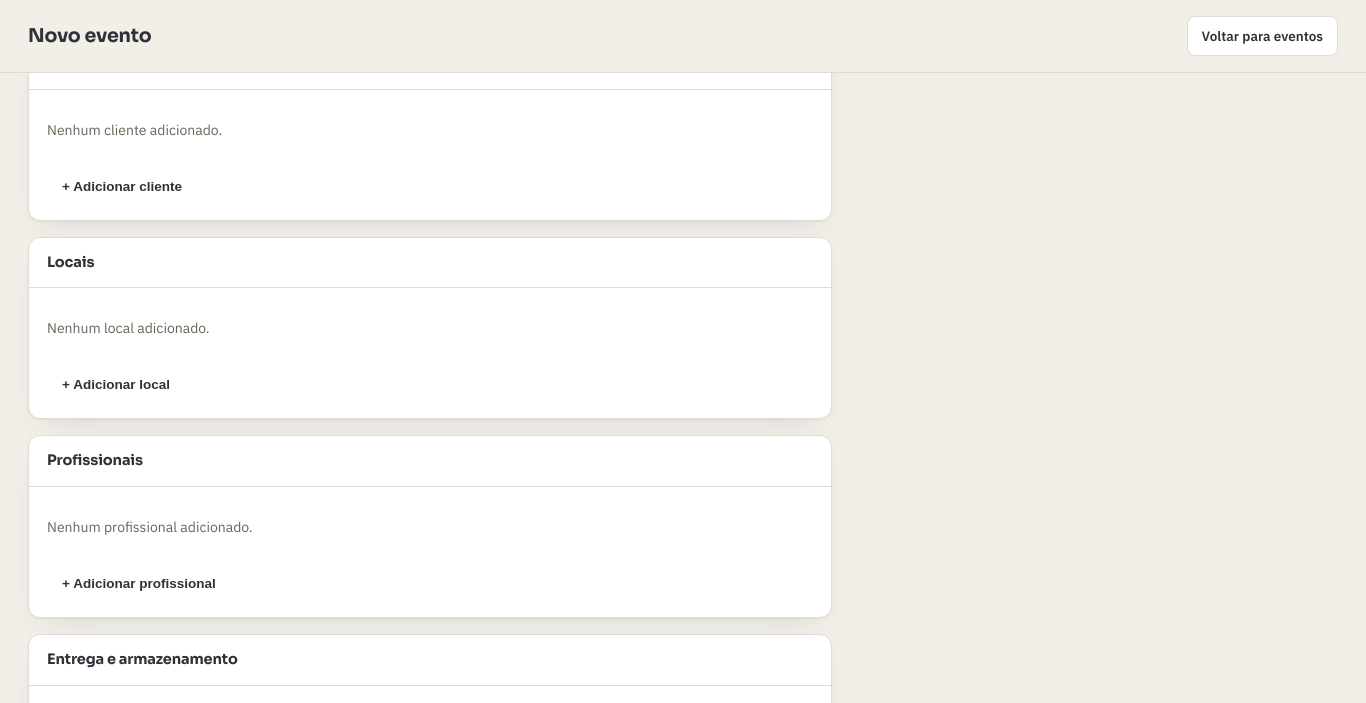
Test: EventFormPage - vários locais por evento (GDE-51) › não oferece em outra linha um local que já foi escolhido
(page scrolled)
Click the button "+ Adicionar local" at (116, 385), box [47,367,185,402]
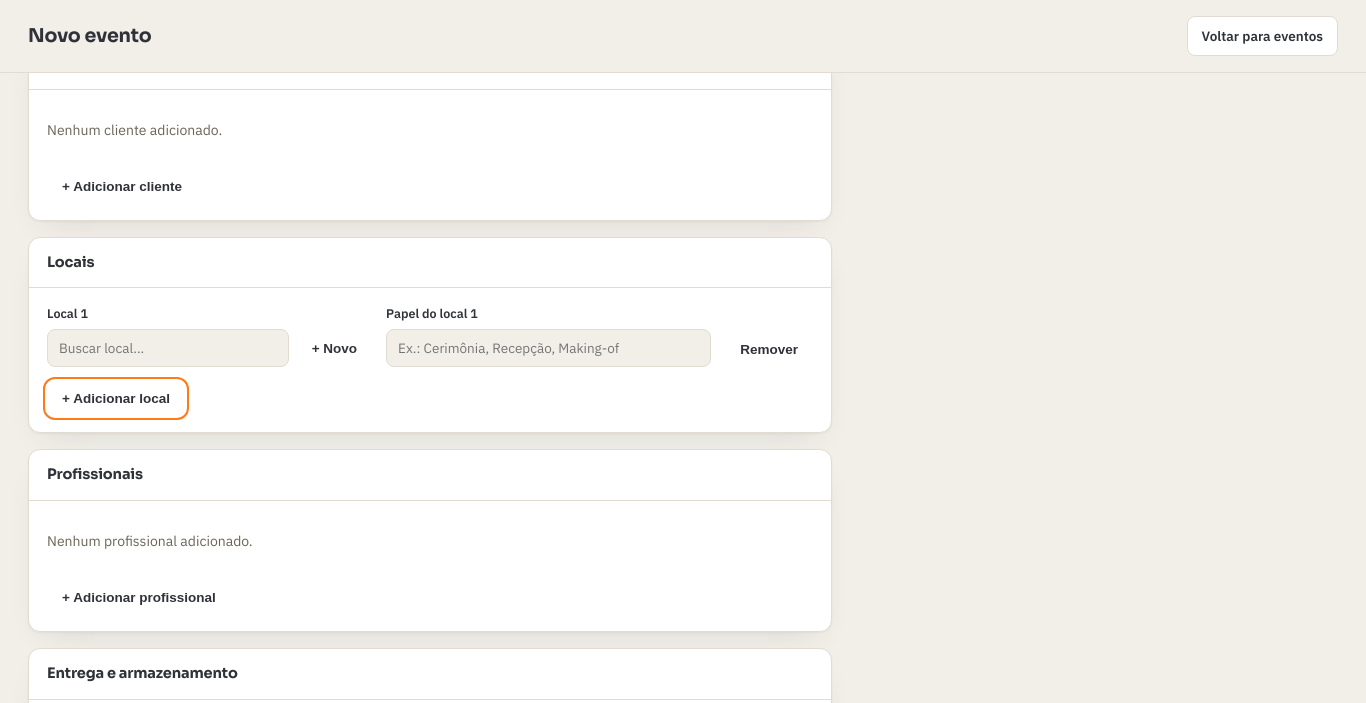
Click the button "+ Adicionar local" at (116, 398), box [47,381,185,416]
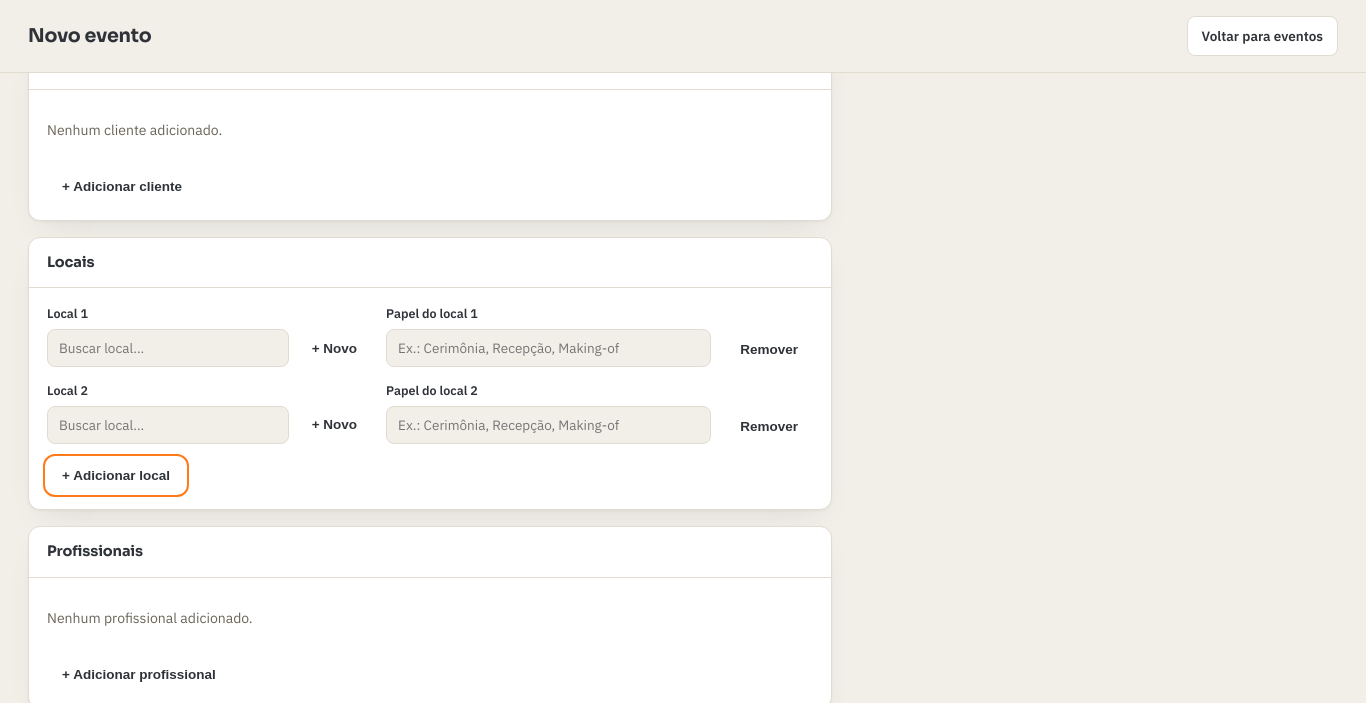
Click the dropdown labelled "Local 1" at (168, 348), box [47,329,289,367]
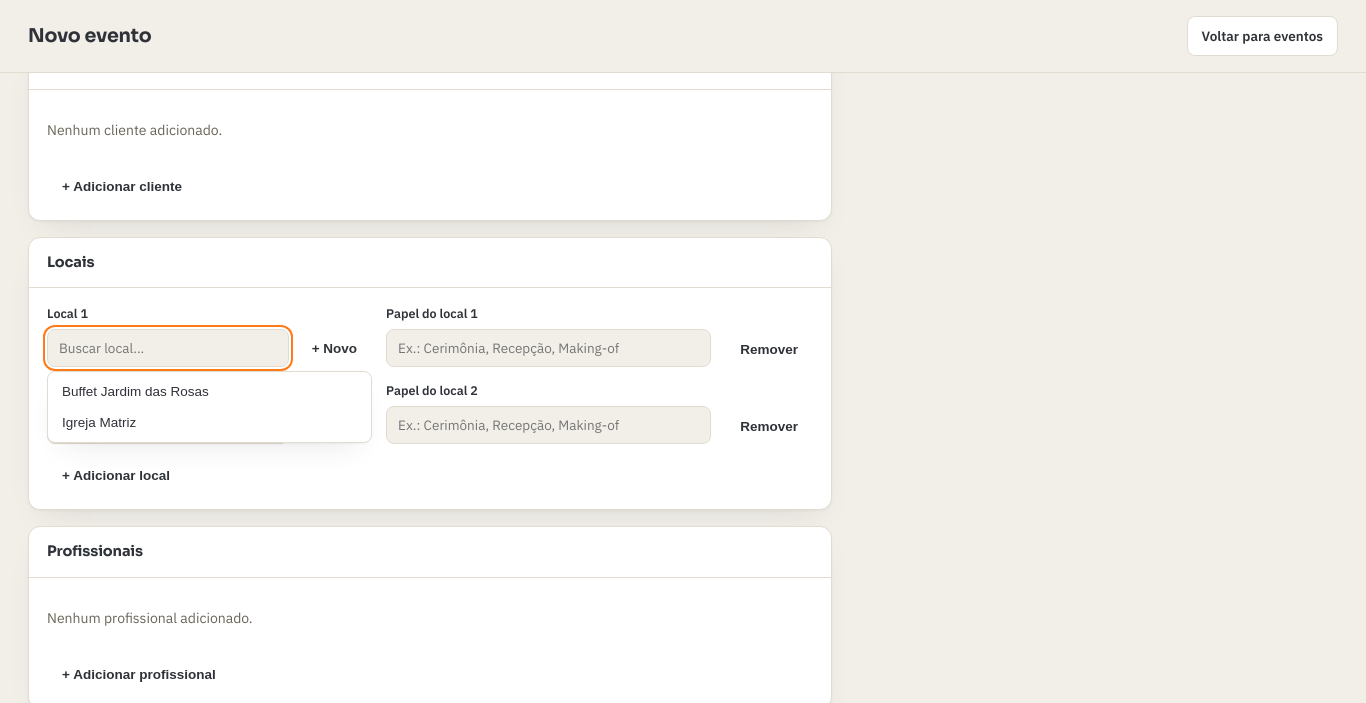
Click the option "Igreja Matriz" at (99, 422), box [52,407,367,438]
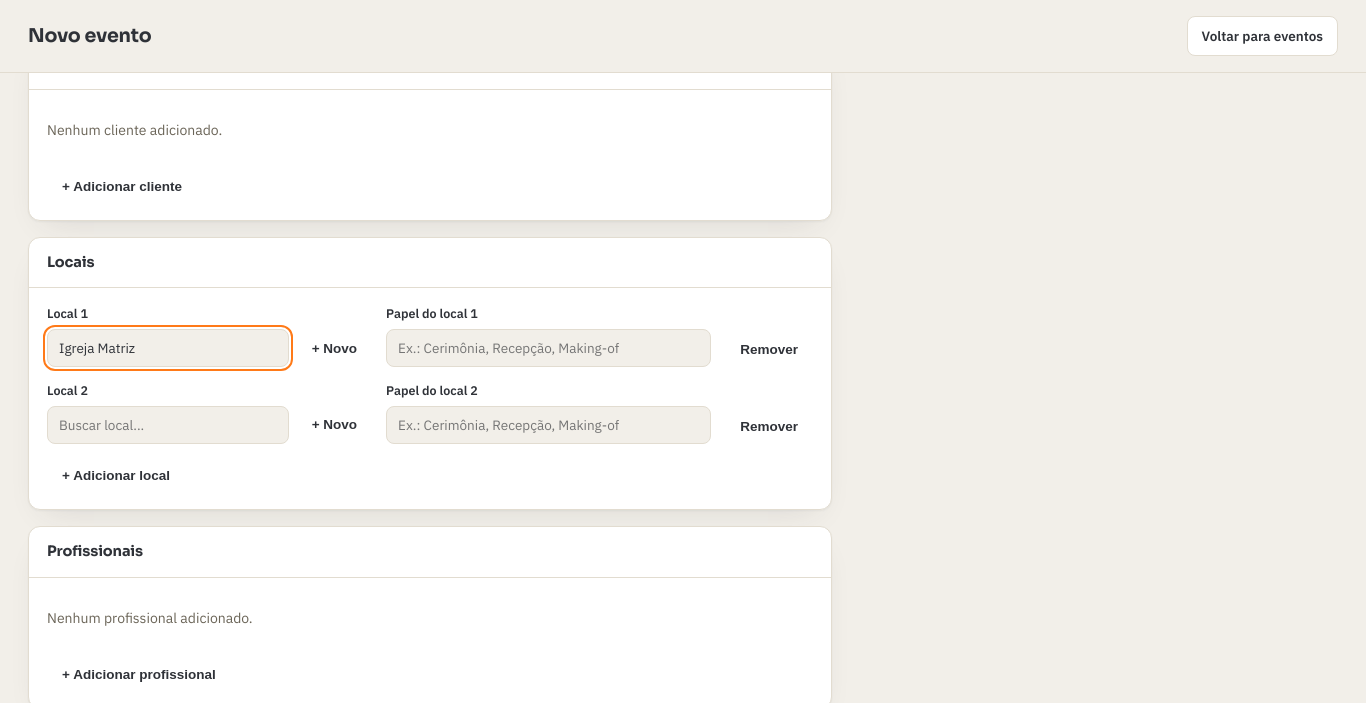
Click the dropdown labelled "Local 2" at (168, 425), box [47,406,289,444]
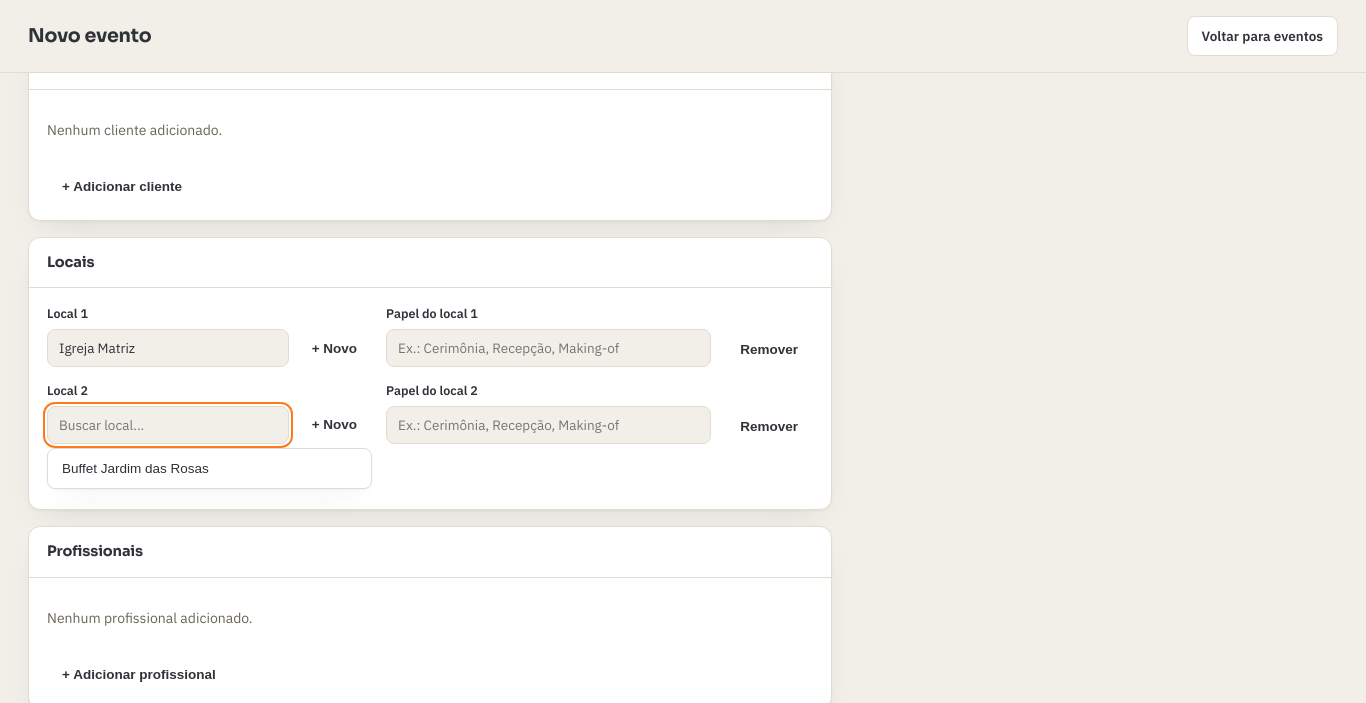
Now the option "Buffet Jardim das Rosas" is shown, box [52,453,367,484]
